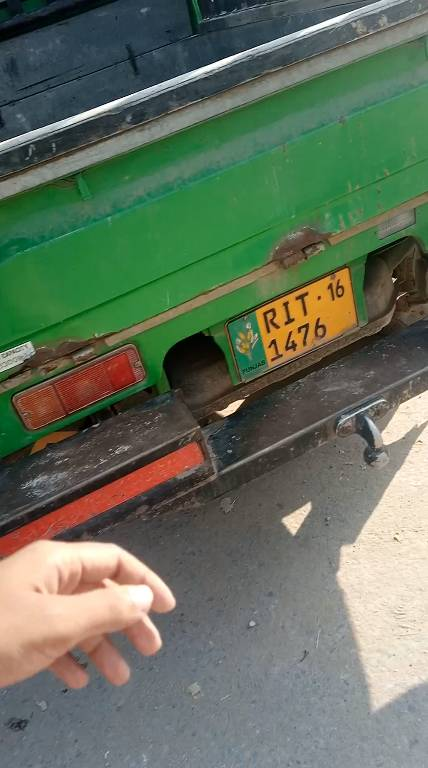number_plate: (214, 268, 366, 381)
